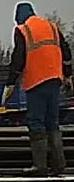gloves: (2, 86, 13, 106), (64, 76, 72, 93)
vest: (14, 15, 64, 92)
